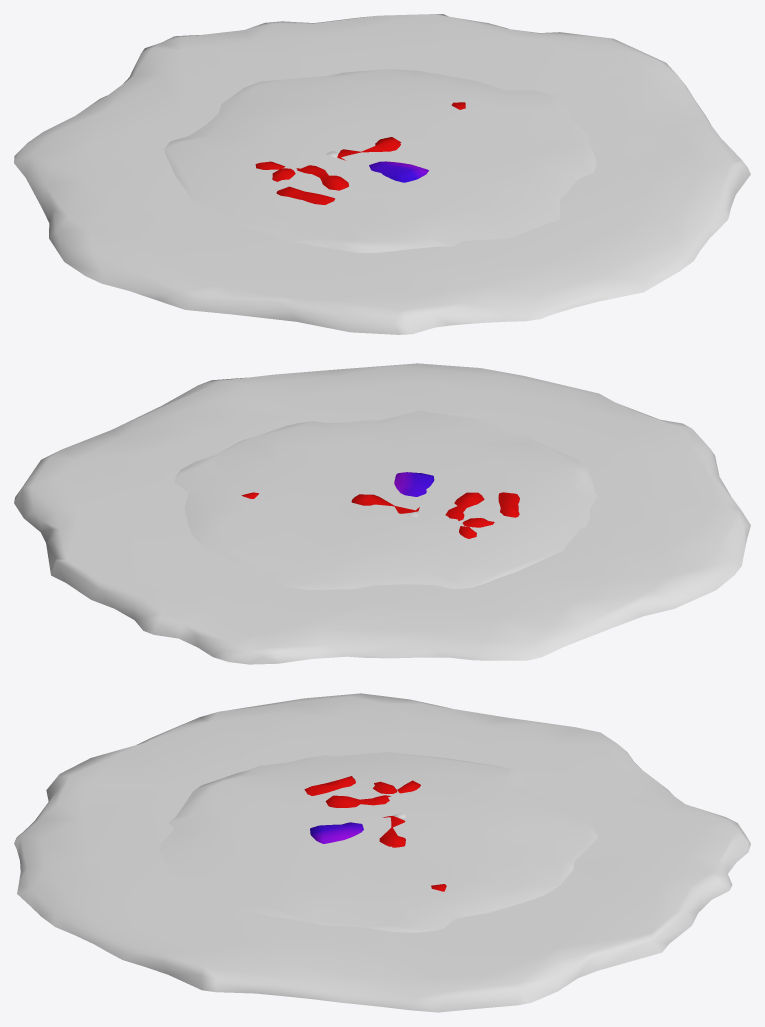
Rendered from LiquidShapes.fbx.
The picture shows the model from 3 angles, top to bottom: view 1: azimuth 30°, elevation 25°; view 2: azimuth 150°, elevation 25°; view 3: azimuth 270°, elevation 25°; orthographic projection. The views are drawn at different scales.
Parts seen in each view (by area): view 1: Liquid_23, Liquid_22, Liquid_18, Liquid_19, Liquid_20; view 2: Liquid_23, Liquid_22, Liquid_18, Liquid_19, Liquid_20; view 3: Liquid_23, Liquid_22, Liquid_18, Liquid_19, Liquid_20.
Boxes of the visible parts, x1,y1,x2,y2 form: Liquid_23: (14,14,750,334); Liquid_22: (164,69,596,252); Liquid_18: (276,102,465,204); Liquid_19: (369,161,428,182); Liquid_20: (255,161,348,190); Liquid_23: (14,363,750,664); Liquid_22: (174,410,597,589); Liquid_18: (241,492,519,517); Liquid_19: (394,472,434,496); Liquid_20: (445,492,484,538); Liquid_23: (14,693,750,1012); Liquid_22: (158,752,597,932); Liquid_18: (304,776,446,891); Liquid_19: (310,822,363,843); Liquid_20: (325,780,420,807).
Size of the model in its own units: 11.11 by 0.9032 by 11.07.
